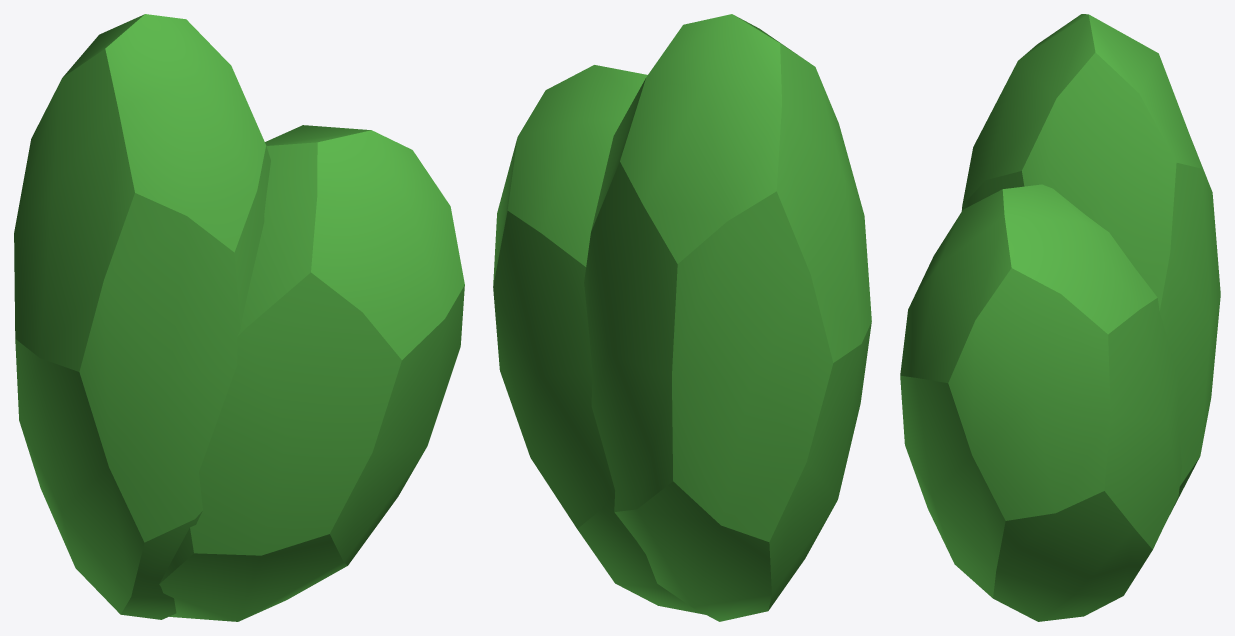
The picture shows the model from 3 angles, left to right: view 1: azimuth 30°, elevation 25°; view 2: azimuth 150°, elevation 25°; view 3: azimuth 270°, elevation 25°; orthographic projection. The views are drawn at different scales.
Parts seen in each view (by area): view 1: kusa1; view 2: kusa1; view 3: kusa1.
Part boxes in pixels (<box>): kusa1: <box>14,14,464,621</box>; kusa1: <box>493,14,871,621</box>; kusa1: <box>900,14,1220,621</box>.
Size of the model in its own units: 0.5258 by 0.8052 by 0.4117.
